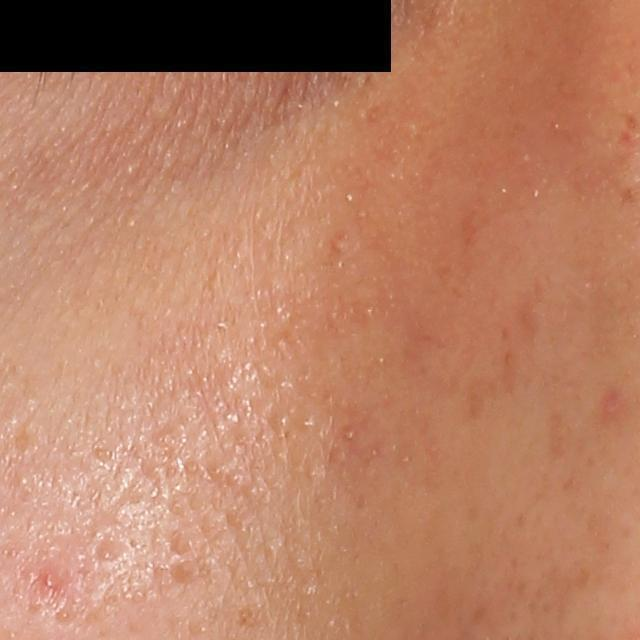atrophic_scar: (89, 536, 129, 563)
melasma: (464, 292, 542, 414), (619, 187, 638, 208)
